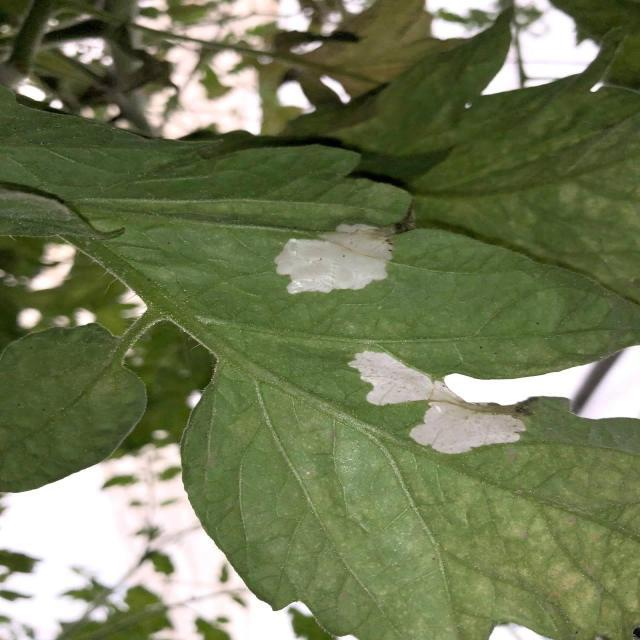Tuta absoluta: (331, 342, 531, 477), (273, 220, 396, 297)
